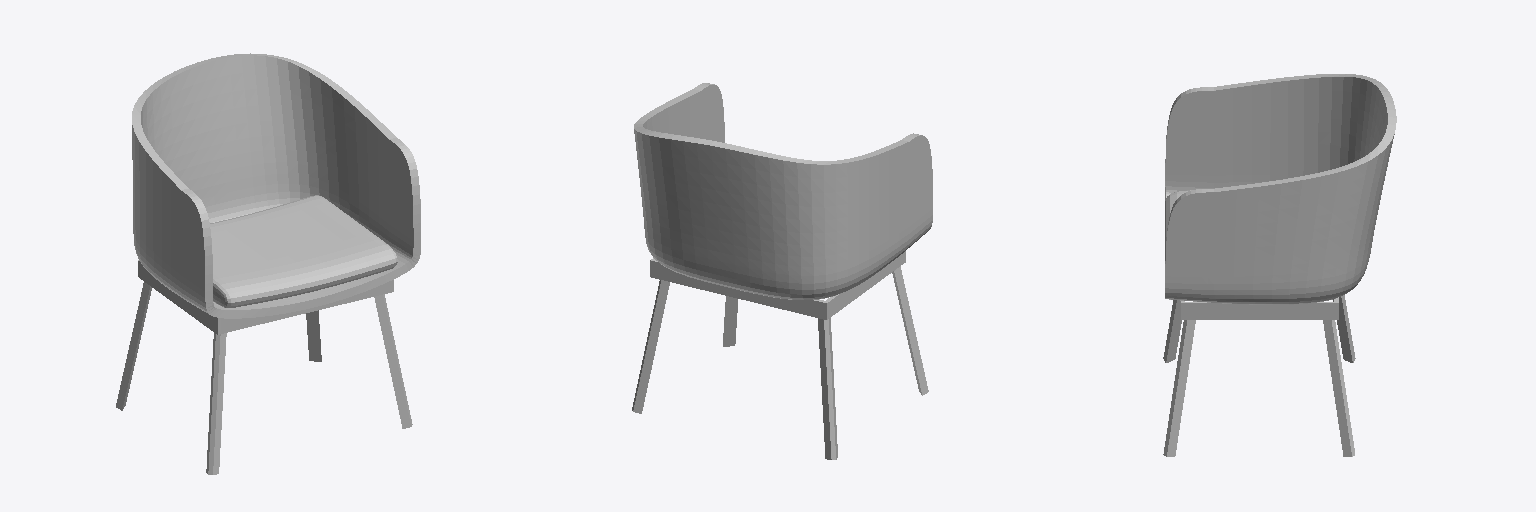
Rendered from chair-for-videogame.obj.
3 views of the same model, side by side, from view 1: azimuth 30°, elevation 25°; view 2: azimuth 150°, elevation 25°; view 3: azimuth 270°, elevation 25° (orthographic).
Parts seen in each view (by area): view 1: dossiers, fessiers, pieds, bois_support; view 2: dossiers, pieds, bois_support; view 3: dossiers, pieds, bois_support.
Part boxes in pixels (x1,y1,x2,y2): dossiers: (132,53,420,318); fessiers: (210,195,397,307); pieds: (116,282,412,474); bois_support: (138,260,393,334); dossiers: (634,83,932,299); pieds: (632,266,928,459); bois_support: (650,251,905,319); dossiers: (1165,74,1396,304); pieds: (1163,295,1355,456); bois_support: (1181,297,1338,319).
Size of the model in its own units: 0.5603 by 0.7611 by 0.5244.